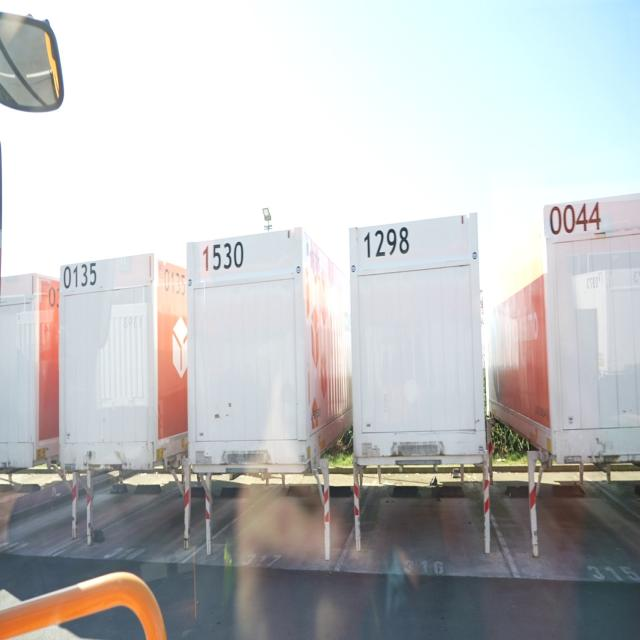Code: (547, 199, 604, 238), (363, 225, 410, 262), (201, 238, 244, 275), (58, 260, 100, 292)
